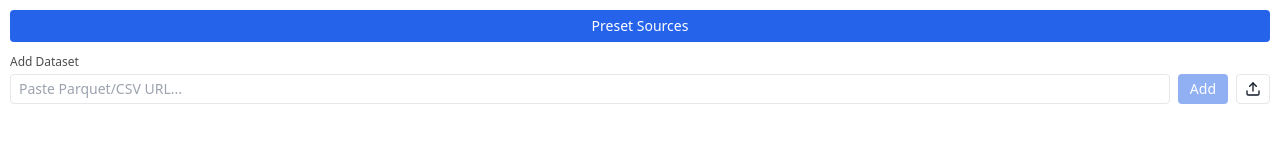
Scenario: DatasetInput clear button › clicking clear button clears the input
The image size is (1280, 160).
Type "https://example.com/data.parquet" into the field with placeholder "Paste Parquet/CSV URL..." at (590, 89), box left=10, top=74, right=1170, bottom=104
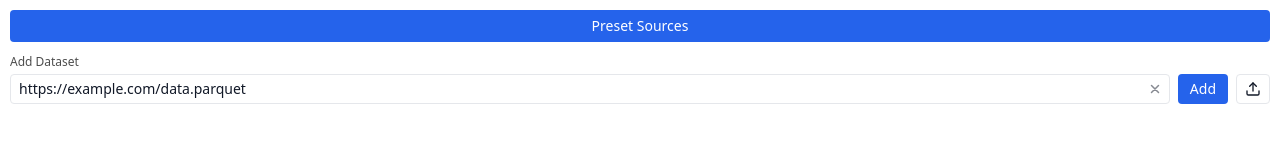
Click the button with test id "clear-url-btn" at (1155, 89), box left=1148, top=82, right=1162, bottom=96
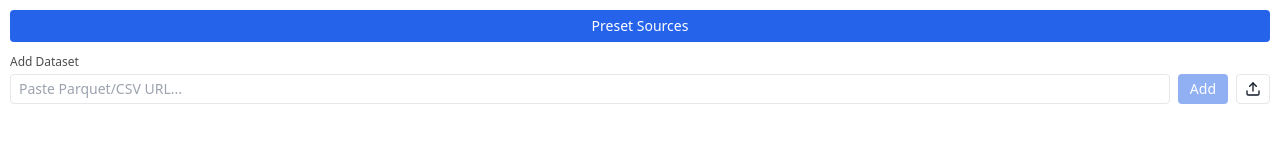
Expected: the field with placeholder "Paste Parquet/CSV URL..." is empty, left=10, top=74, right=1170, bottom=104
Expected: the button with test id "clear-url-btn" is gone
